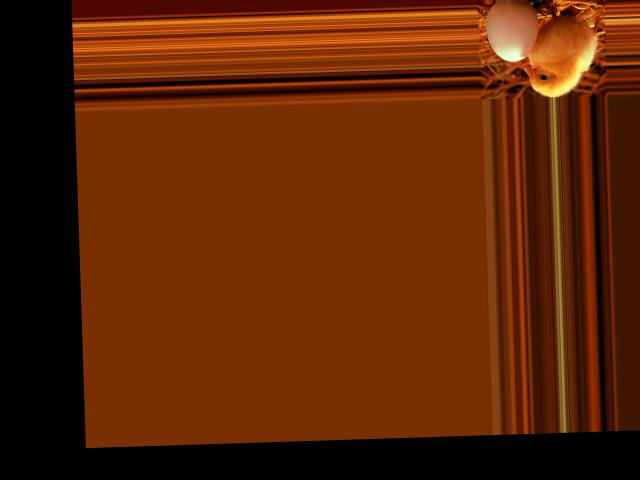egg: (485, 0, 540, 62)
